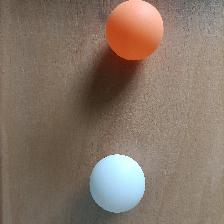WhiteBall: (88, 153, 145, 213)
YellowBall: (105, 0, 163, 60)
